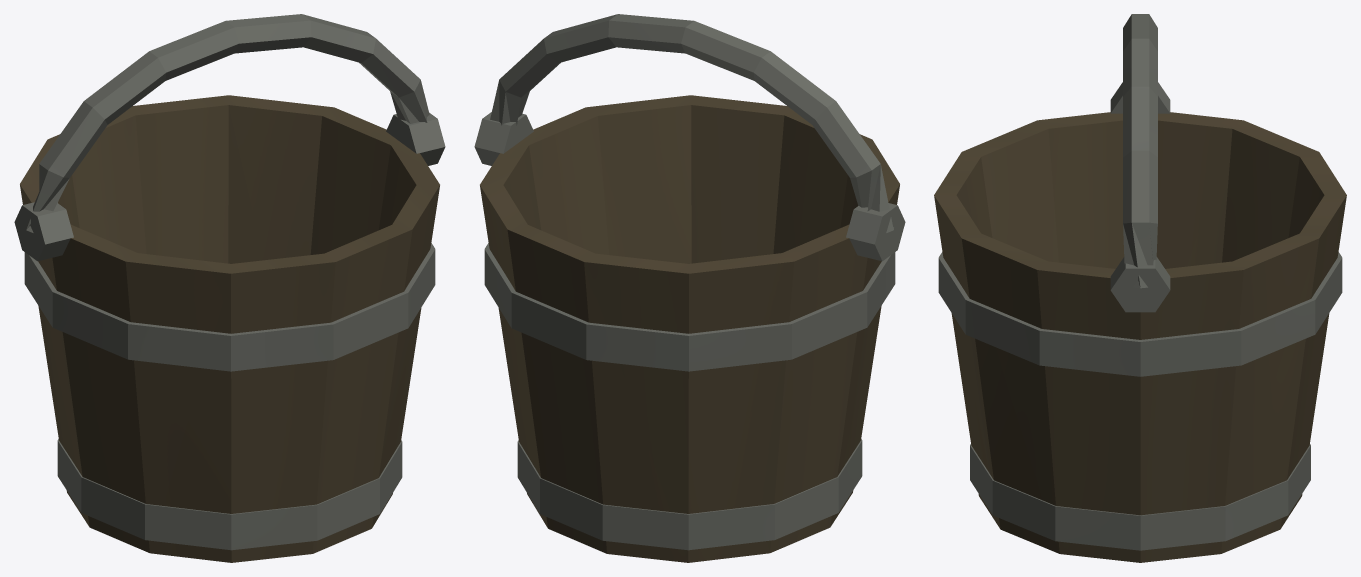
Rendered from WarrensC_CCS75_MaintenanceBucket_Mars_SM.fbx.
The picture shows the model from 3 angles, left to right: view 1: azimuth 30°, elevation 25°; view 2: azimuth 150°, elevation 25°; view 3: azimuth 270°, elevation 25°; orthographic projection. The views are drawn at different scales.
Parts seen in each view (by area): view 1: WarrensC_CCS75_MaintenanceBucket_Mars_SM.001; view 2: WarrensC_CCS75_MaintenanceBucket_Mars_SM.001; view 3: WarrensC_CCS75_MaintenanceBucket_Mars_SM.001.
Part boxes in pixels (x1,y1,x2,y2): WarrensC_CCS75_MaintenanceBucket_Mars_SM.001: (14, 14, 445, 562); WarrensC_CCS75_MaintenanceBucket_Mars_SM.001: (474, 14, 905, 562); WarrensC_CCS75_MaintenanceBucket_Mars_SM.001: (934, 14, 1346, 562).
Size of the model in its own units: 50 by 45 by 55.
